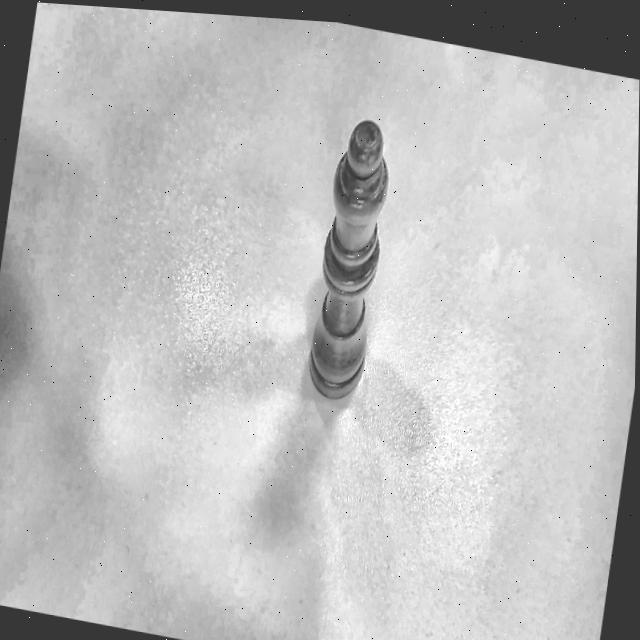black-queen: (293, 103, 410, 417)
